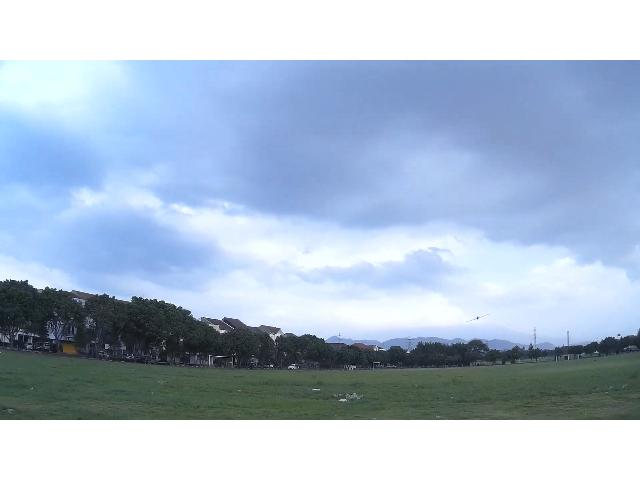Anti-Drone: (464, 313, 490, 323)
